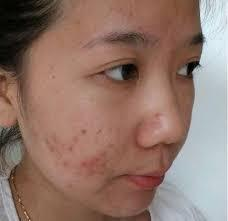fore: (152, 108, 171, 124), (88, 162, 104, 180), (85, 151, 105, 163), (51, 129, 62, 142), (65, 142, 78, 152), (59, 157, 69, 168), (68, 135, 81, 142), (45, 144, 56, 152), (80, 156, 85, 170), (41, 137, 50, 144)
